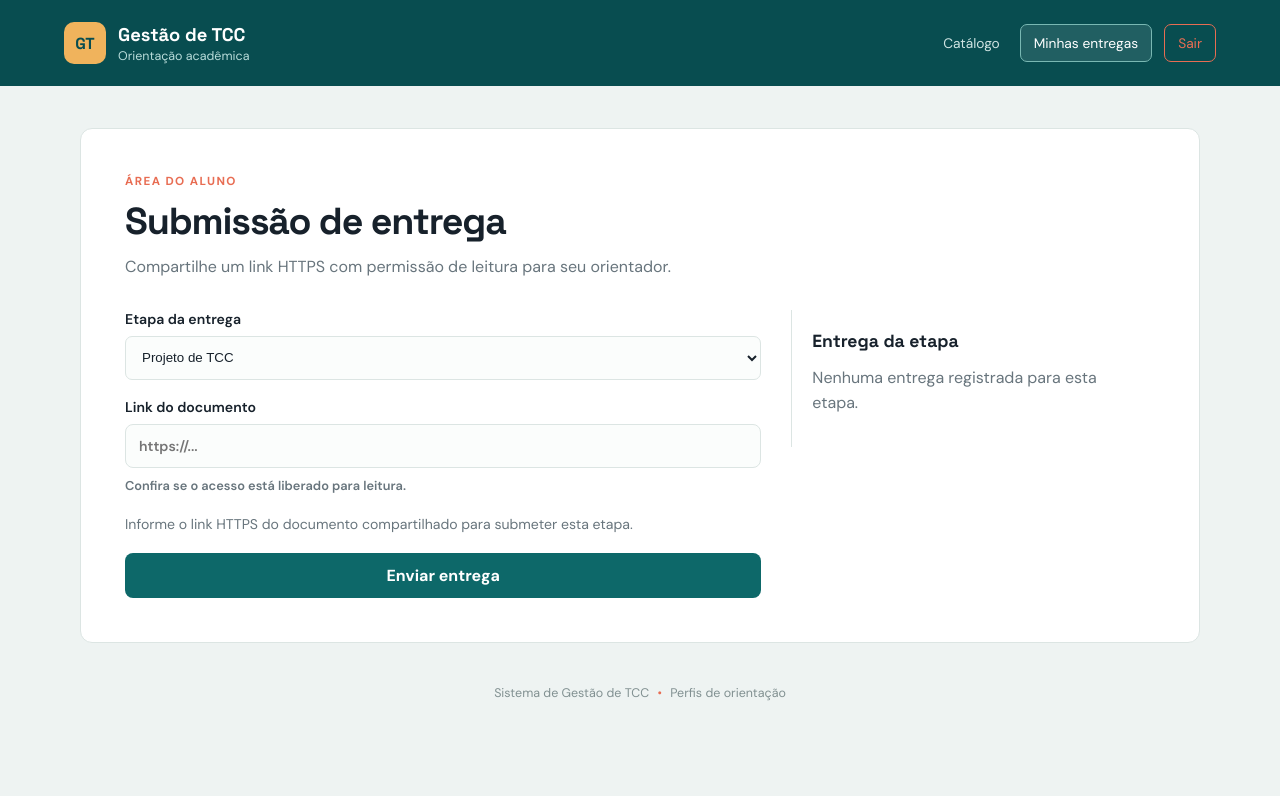
SubmissaoEntregaPage › envia uma submissão e mostra o status retornado
In the field labelled "Link do documento": (443, 446) [125, 424, 761, 468], type "https://documento.exemplo/tcc"
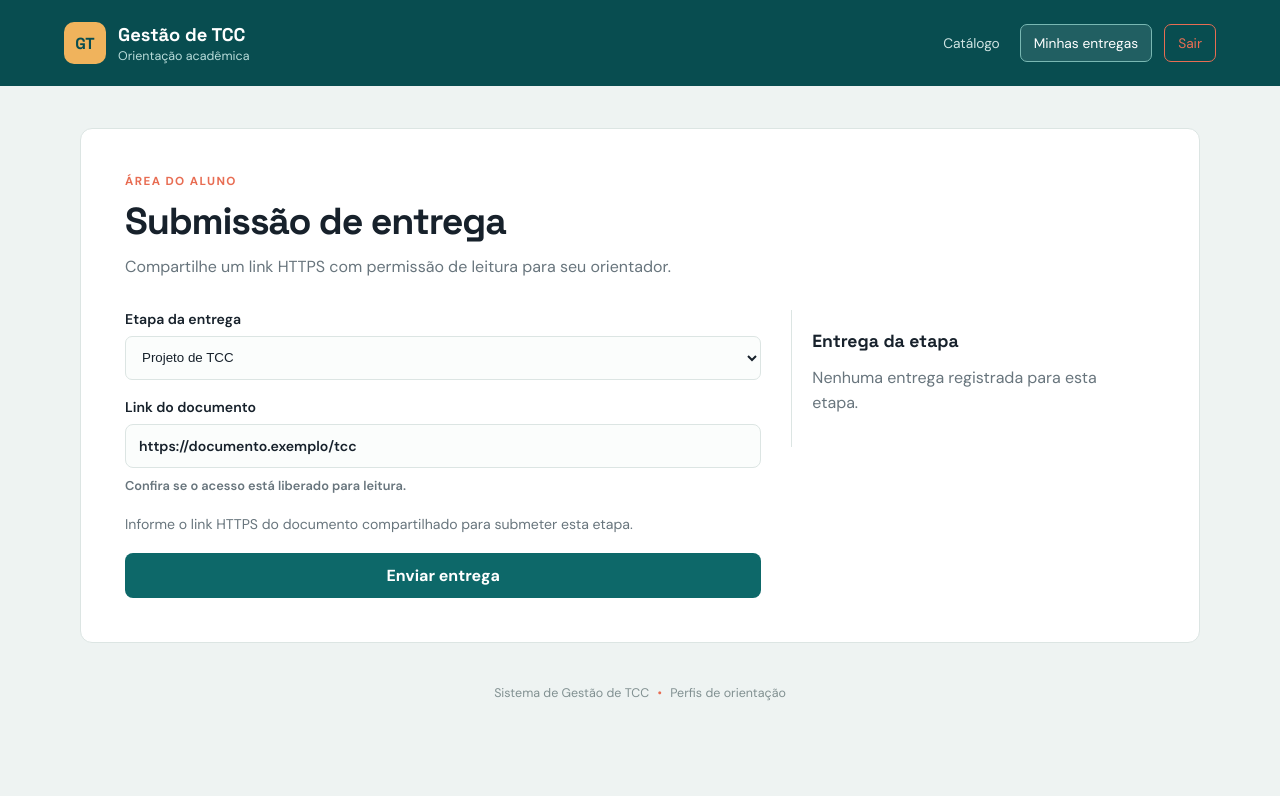
Click the button "Enviar entrega": (443, 576) [125, 553, 761, 598]
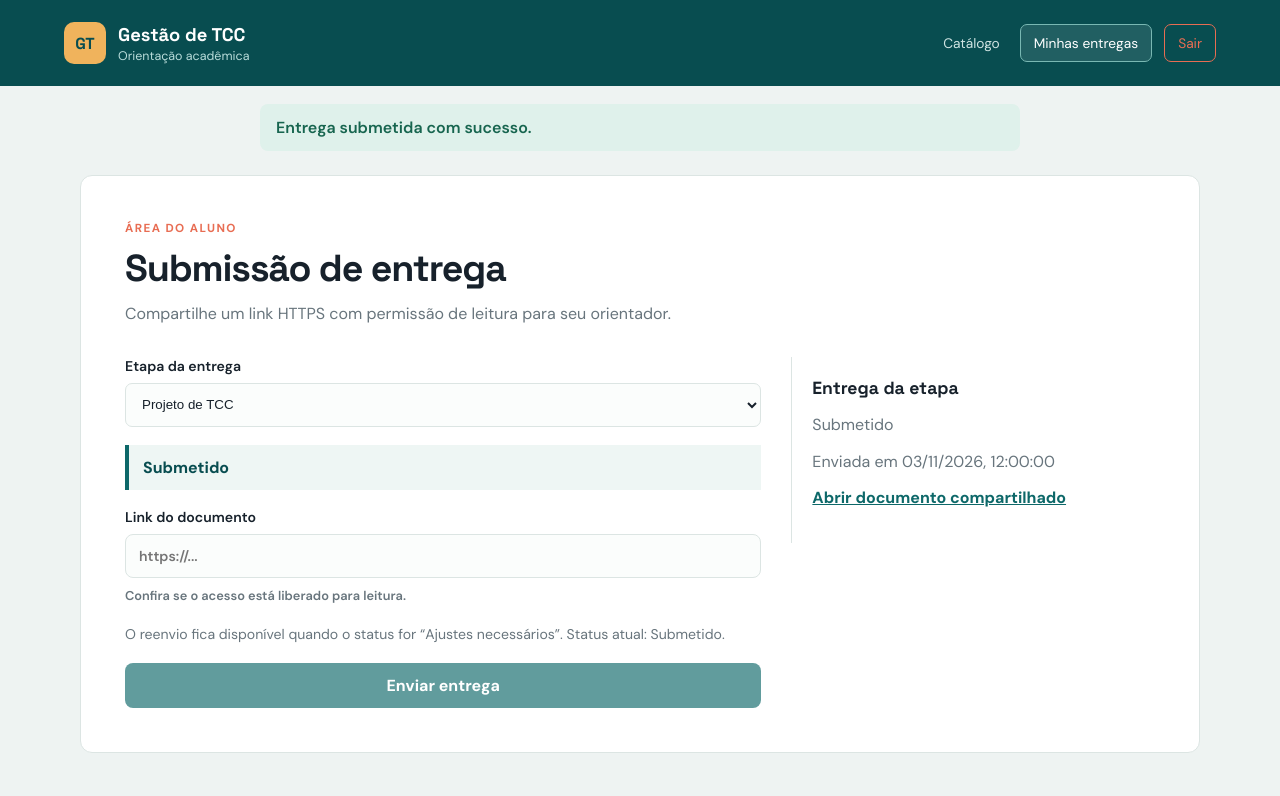
Now the text "Entrega submetida com sucesso." is shown, box [260, 104, 1020, 151]
Now the text "Submetido" is shown 2 times, box [143, 457, 229, 478]; [812, 414, 894, 435]
